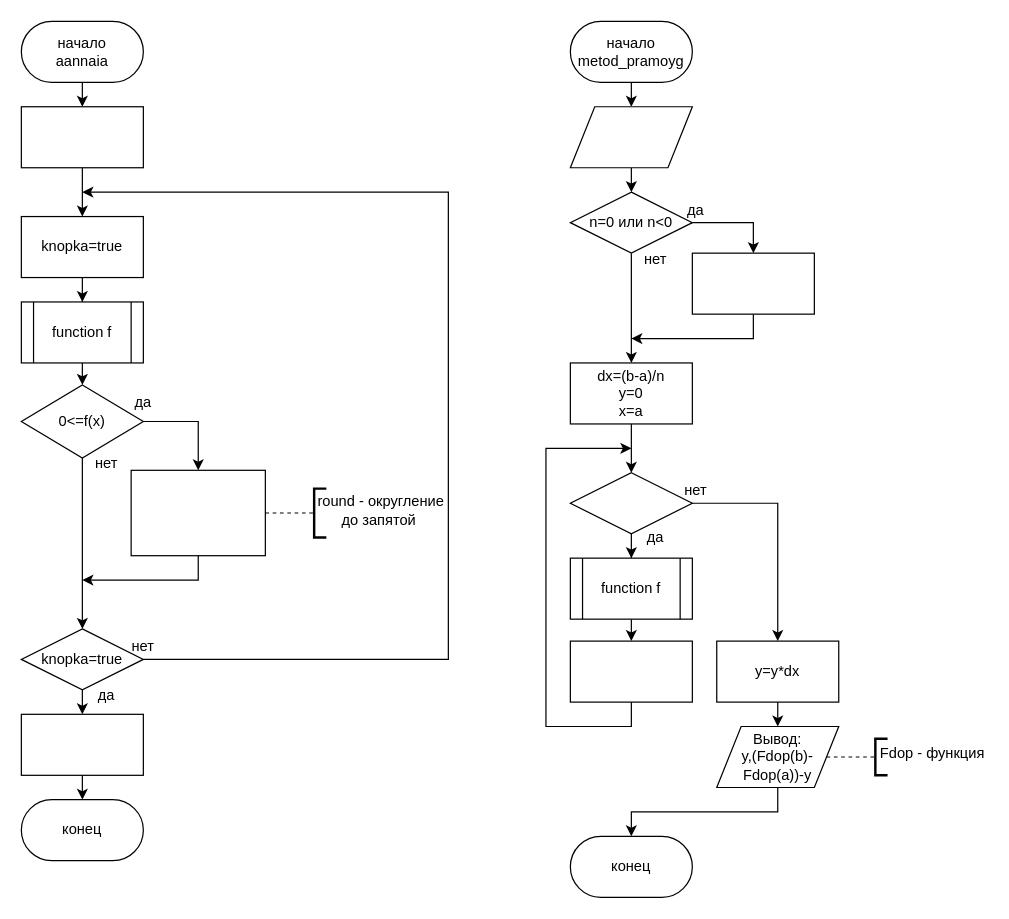
This 1009x919 diagram has some shape labels left out. The shapes that lost their labels are listed below. From the top down, each one's centre as x and y in pixels, then its label:
point (81, 137): d=0,000001 x=0
point (630, 137): Ввод: n
point (752, 283): n=10
point (197, 512): knopka=false x=x-d x=(round(x*1000000)) /1000000
point (630, 503): x<b
point (630, 671): y=y+f(x) x=x+dx
point (81, 744): aannaia=x
